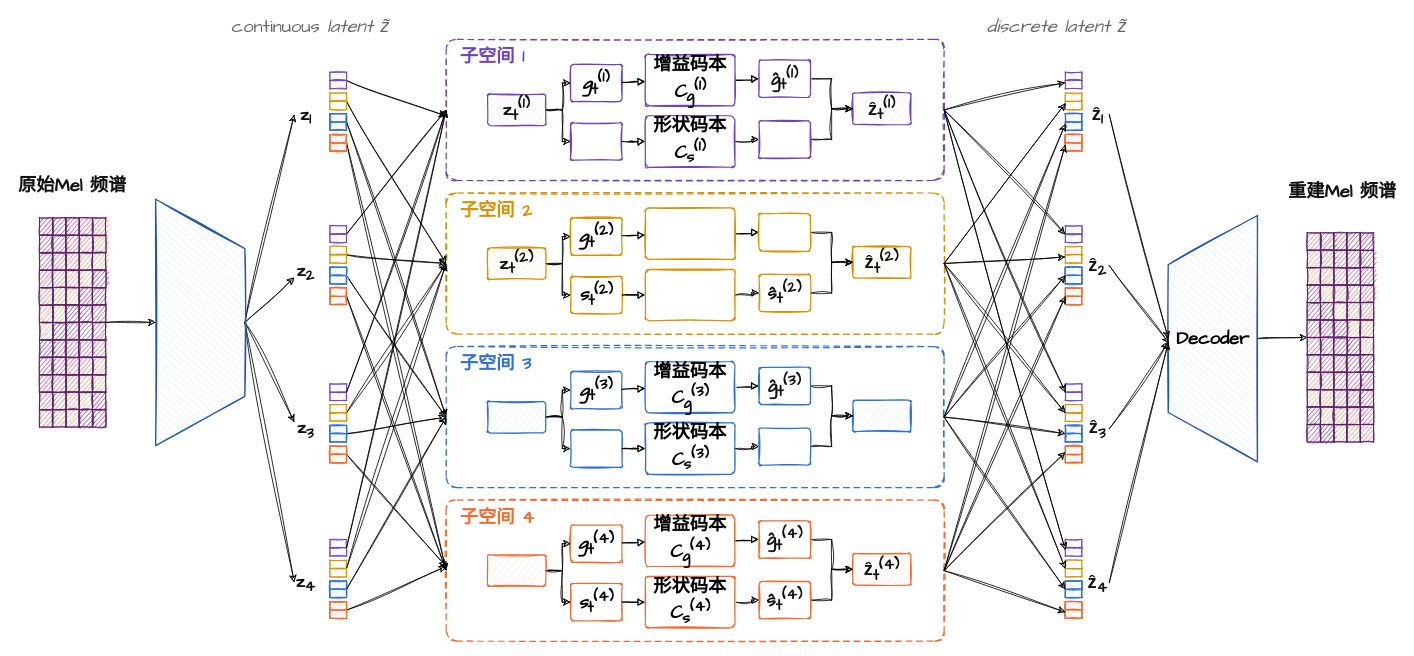
The diagram is 1414 pixels wide and 656 high, and some of its shapes have lost their labels. Here are the shapes that lost their labels. From the top down, the centre of each, then its label:
At [596,141]: "s t (1)".
At [784,139]: "ŝ t (1)".
At [689,233]: "增益码本 C g (2)".
At [784,232]: "ĝ t (2)".
At [689,294]: "形状码本 C s (2)".
At [200,322]: "Encoder".
At [516,416]: "z t (3)".
At [881,415]: "ẑ t (3)".
At [596,448]: "s t (3)".
At [784,446]: "ŝ t (3)".
At [516,570]: "z t (4)".
